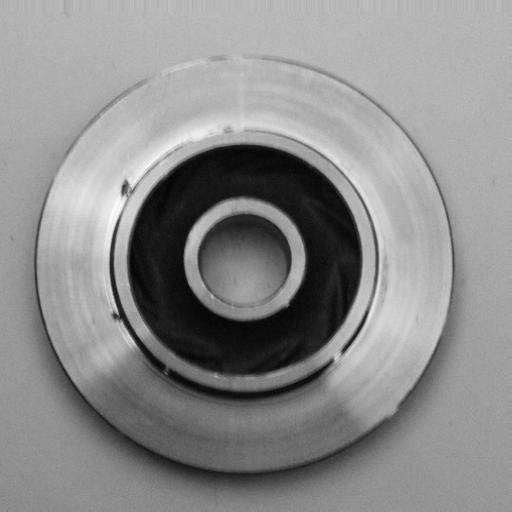crack: (102, 301, 135, 338), (112, 170, 142, 203)
scratch: (180, 116, 264, 143), (317, 326, 359, 376)
unpolished_casting: (35, 54, 457, 479)
